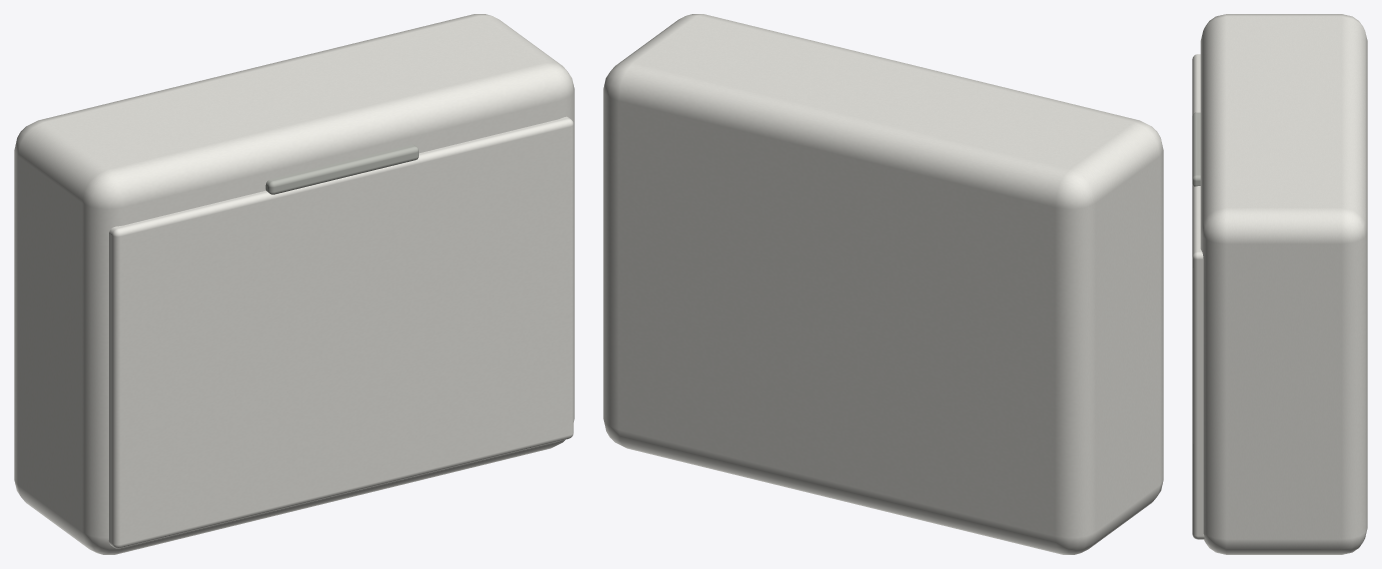
The model's file is trones.glb.
3 renders of one model, left to right at view 1: azimuth 30°, elevation 25°; view 2: azimuth 150°, elevation 25°; view 3: azimuth 270°, elevation 25°, orthographic. The views are drawn at different scales.
Parts seen in each view (by area): view 1: TRONES Shoe cabinet, one unit; view 2: TRONES Shoe cabinet, one unit; view 3: TRONES Shoe cabinet, one unit.
Boxes of the visible parts, x1,y1,x2,y2 form: TRONES Shoe cabinet, one unit: (14,14,574,554); TRONES Shoe cabinet, one unit: (603,14,1163,554); TRONES Shoe cabinet, one unit: (1192,14,1367,554).
Size of the model in its own units: 0.52 by 0.39 by 0.18.
Materials: 2 (2 with a texture image).
